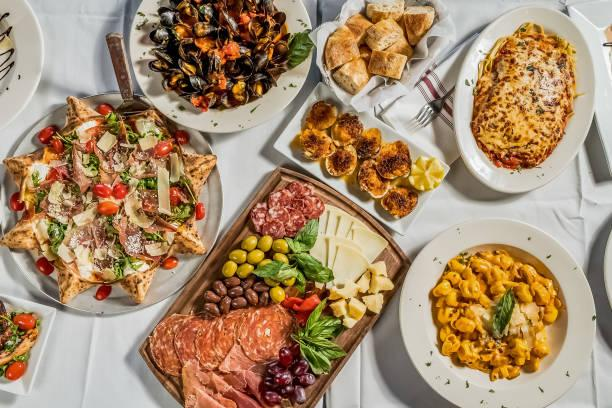Braised Crucian Carp: (142, 166, 416, 408), (7, 95, 223, 313), (399, 214, 598, 408), (452, 6, 597, 200), (268, 82, 446, 227), (131, 0, 309, 134), (313, 0, 455, 108)
